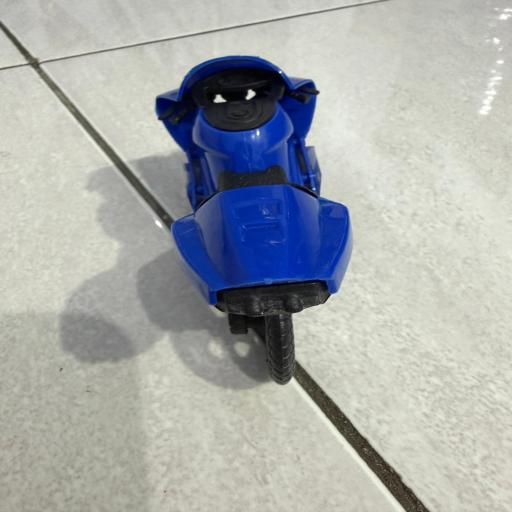motor-biru: (148, 49, 362, 392)
